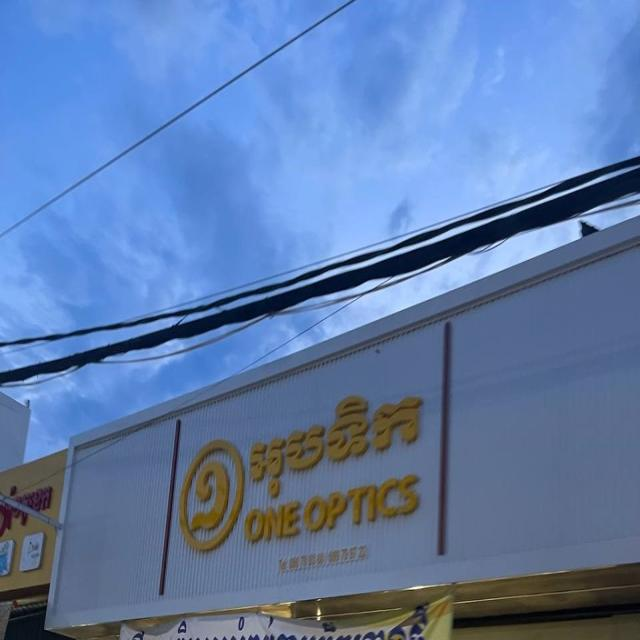Yolov11kh: (248, 382, 423, 504), (186, 455, 232, 538)
